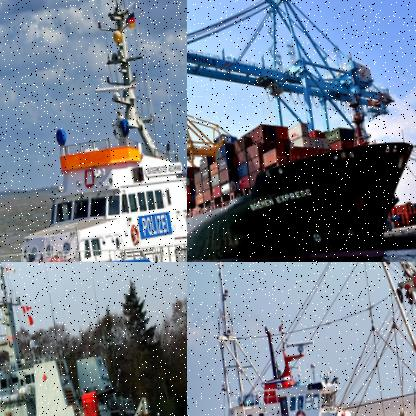Fishing Boat: (187, 262, 415, 415)
Merchant Ship: (187, 104, 415, 261)
Military Ship: (0, 262, 186, 415)
Patrol Boat: (0, 0, 186, 261)
